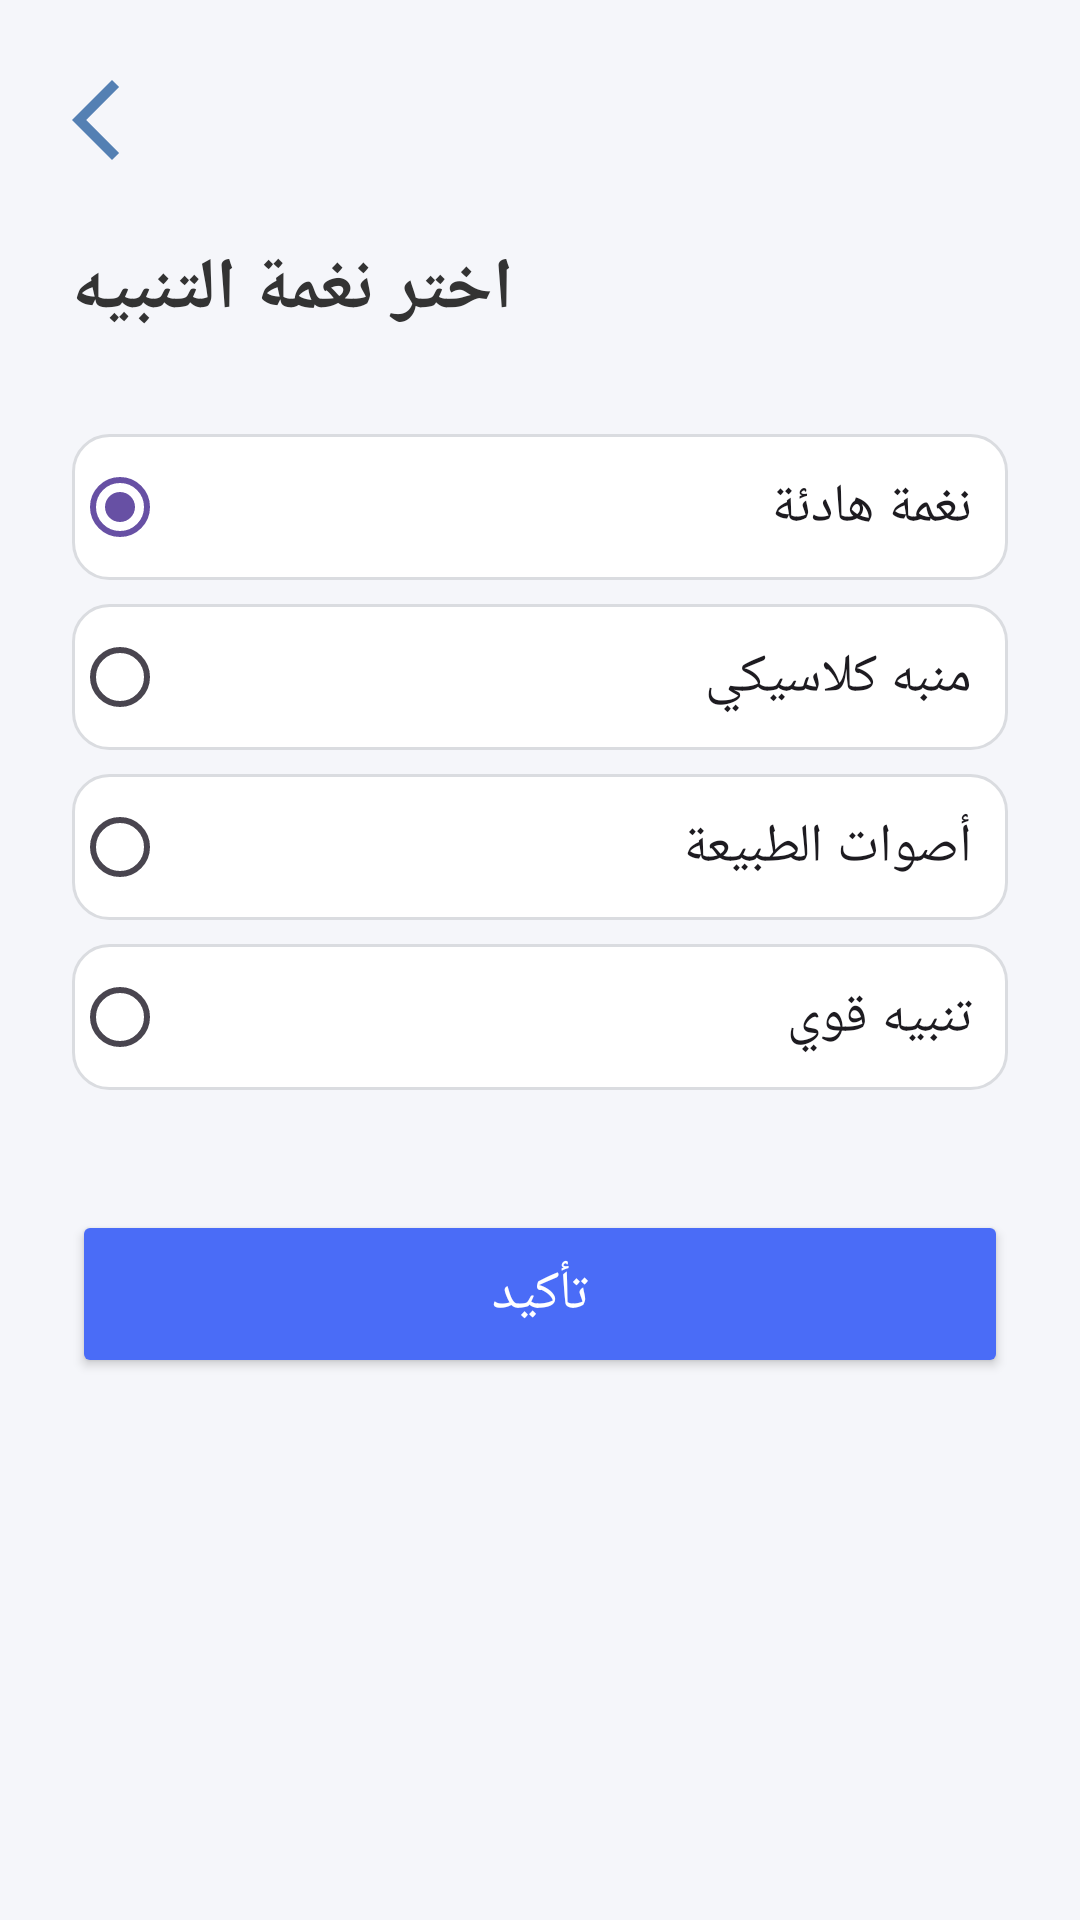

Icon bounding boxes for this 1080 x 1920 phone screenshot, format (x1, y1, x2, y2):
back: (72, 80, 119, 160)
